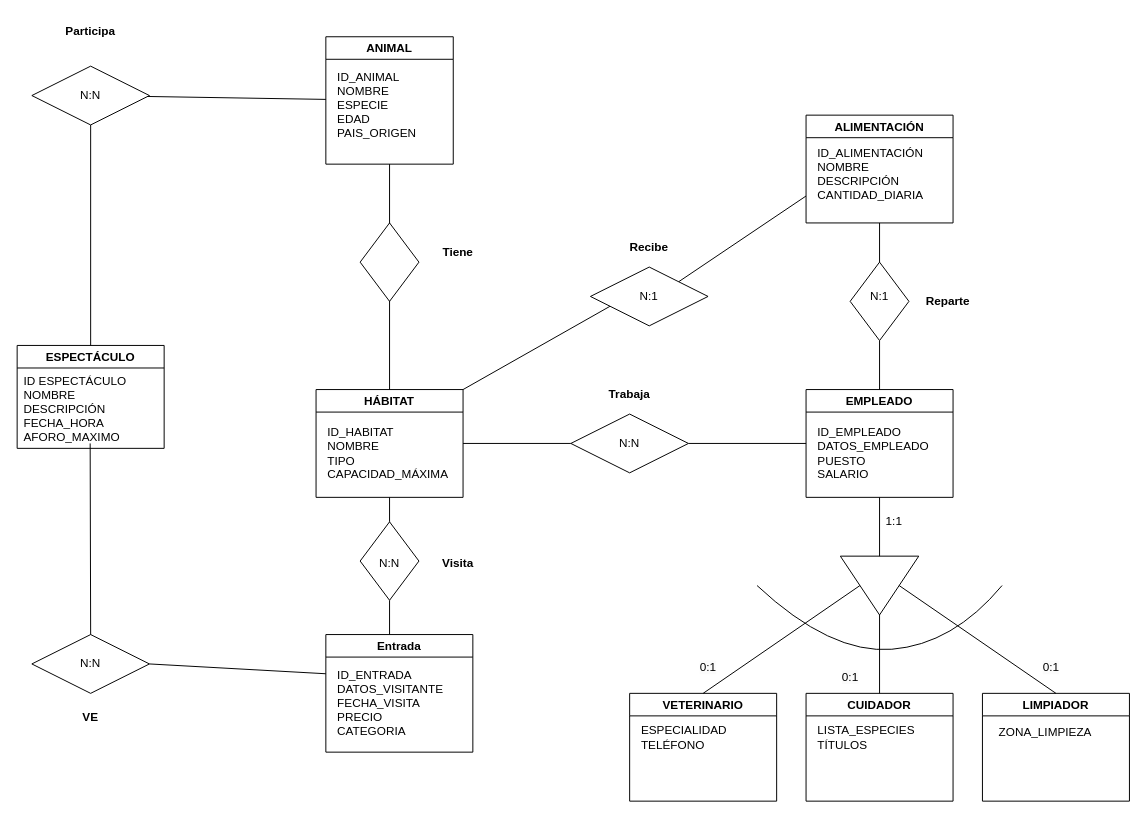
The diagram is 1147 pixels wide and 818 high, and some of its shapes have lost their labels. The centre of each missing label's shape, as x and y in pixels:
"1:N" belongs at (389,261).
"es" belongs at (879,585).
